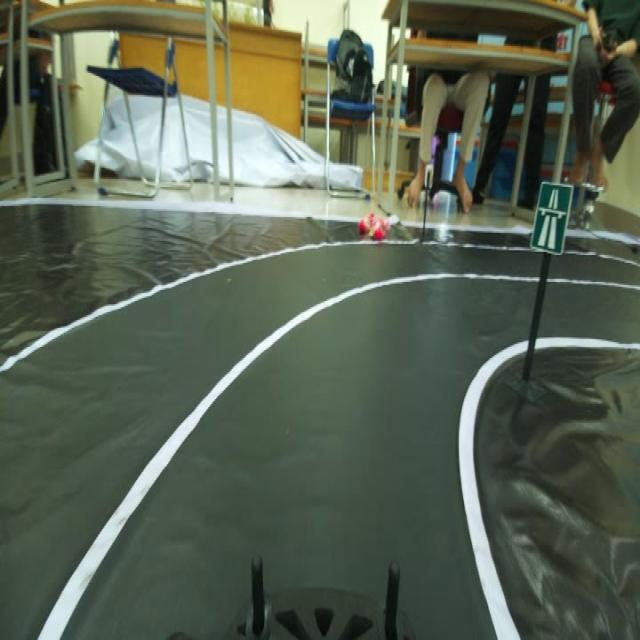highway_entry: (534, 172, 574, 264)
